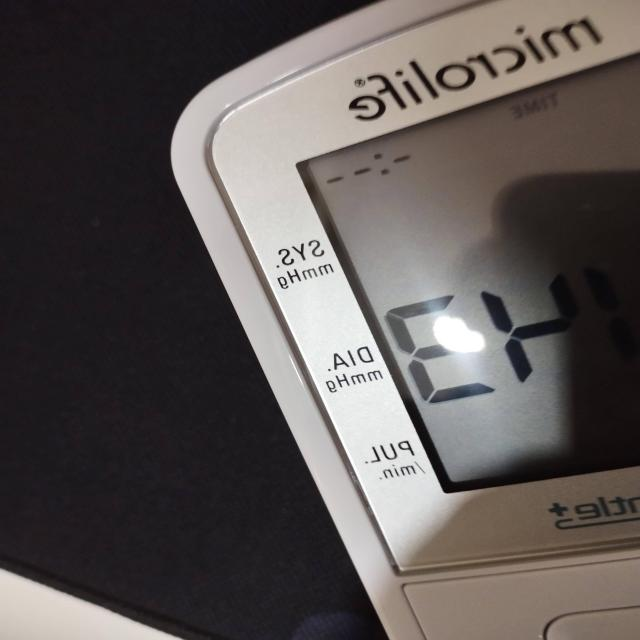bp: (171, 0, 640, 640)
